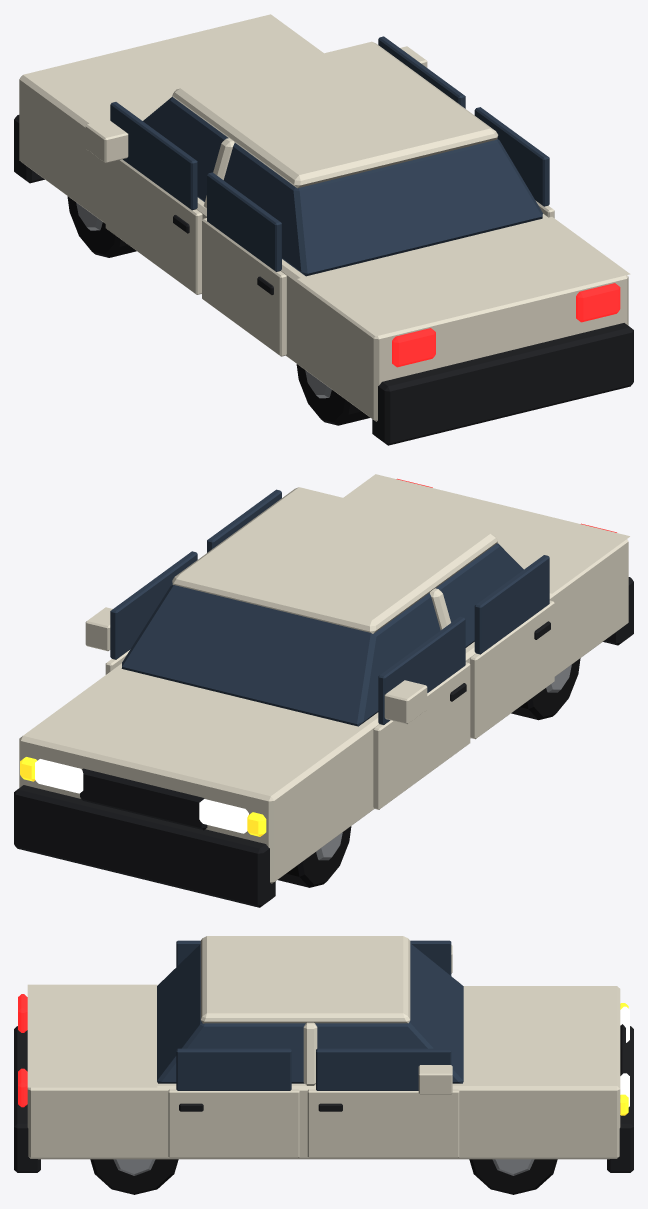
File: car_sedan.glb
3 views of the same model, one above another, from view 1: azimuth 30°, elevation 25°; view 2: azimuth 150°, elevation 25°; view 3: azimuth 270°, elevation 25° (orthographic). The views are drawn at different scales.
Parts seen in each view (by area): view 1: car_body, car_door_FL, car_door_RL, car_door_RR, car_door_FR; view 2: car_body, car_door_FL, car_door_RL, car_door_FR, car_door_RR; view 3: car_body, car_door_FR, car_door_RR, car_door_FL, car_door_RL.
Part boxes in pixels (left/top/right/bottom): car_body: left=14, top=14, right=633, bottom=445; car_door_FL: left=85, top=102, right=202, bottom=294; car_door_RL: left=202, top=172, right=286, bottom=356; car_door_RR: left=474, top=107, right=554, bottom=218; car_door_FR: left=378, top=36, right=465, bottom=108; car_body: left=14, top=474, right=633, bottom=907; car_door_FL: left=373, top=616, right=470, bottom=809; car_door_RL: left=470, top=555, right=554, bottom=739; car_door_FR: left=85, top=551, right=197, bottom=674; car_door_RR: left=207, top=489, right=281, bottom=552; car_body: left=14, top=936, right=633, bottom=1194; car_door_FR: left=307, top=1048, right=459, bottom=1157; car_door_RR: left=168, top=1048, right=299, bottom=1157; car_door_FL: left=410, top=940, right=459, bottom=982; car_door_RL: left=176, top=940, right=200, bottom=966.
Size of the model in its own units: 2.28 by 1.42 by 4.58.
